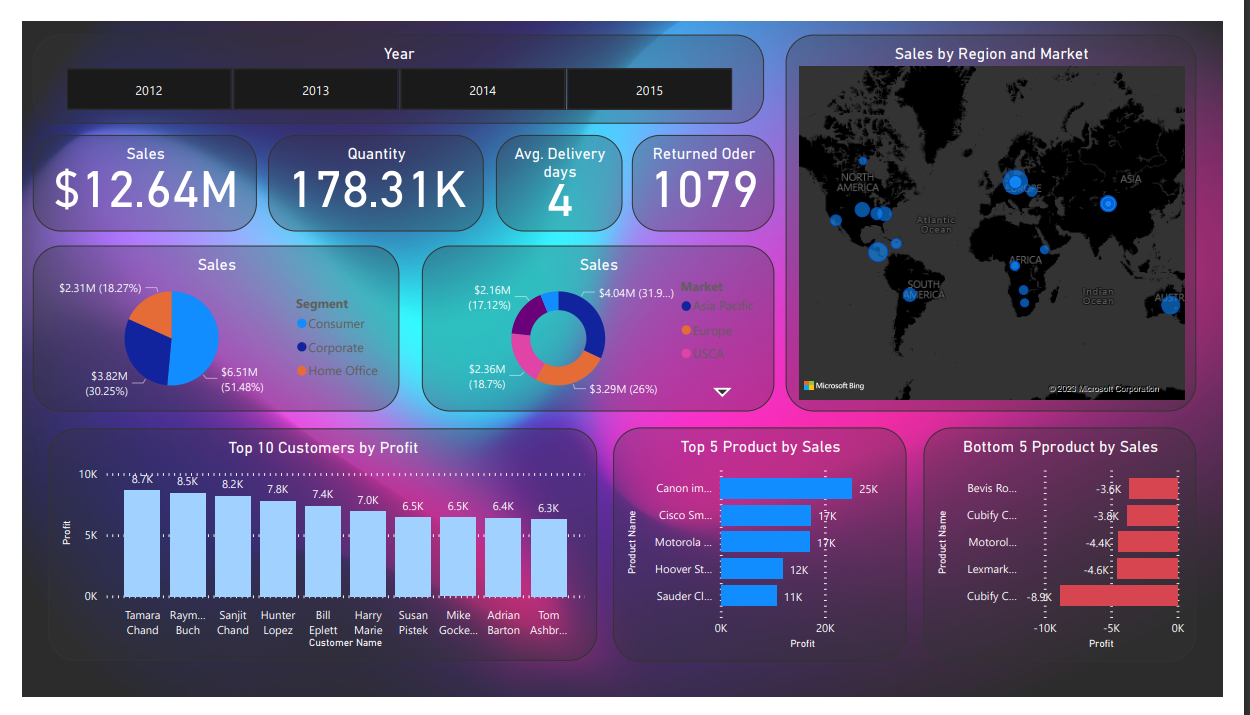

What the dashboard file says about the page in this screenshot:
{"tool":"powerbi","page":{"name":"Page 1","canvas":[1280,720],"ordinal":0},"visuals":[{"type":"card","title":"Sales","fields":{"Values":["Orders.Sales"]},"box":[10.9,120.6,238.8,103.7],"z":0},{"type":"card","title":"Quantity","fields":{"Values":["Orders.Quantity"]},"box":[261.7,120.6,230.4,103.7],"z":1000},{"type":"card","title":"Avg. Delivery days","fields":{"Values":["Orders.Delivery days"]},"box":[505.3,120.6,135.1,103.7],"z":2000},{"type":"slicer","title":"Year","fields":{"Values":["Orders.Year"]},"box":[10.9,14.5,780.3,94.1],"z":3000},{"type":"card","title":"Returned Oder","fields":{"Values":["Returns.Returned orders"]},"box":[650.1,120.6,152,103.7],"z":4000},{"type":"map","title":"Sales by Region and Market","fields":{"Size":["Orders.Sales"],"Category":["Orders.Region"]},"box":[814.1,14.5,437.8,401.6],"z":5000},{"type":"clusteredBarChart","title":"Top 5 Product by Sales","fields":{"Y":["Orders.Profit"],"Category":["Orders.Product Name"]},"box":[629.5,433,313.6,249.6],"z":6000},{"type":"clusteredBarChart","title":"Bottom 5 Pproduct by Sales ","fields":{"Y":["Orders.Profit"],"Category":["Orders.Product Name"]},"box":[961.2,433,290.7,249.6],"z":7000},{"type":"pieChart","title":"Sales","fields":{"Category":["Orders.Segment"],"Y":["Orders.Sales"]},"box":[10.9,238.8,390.8,177.3],"z":8000},{"type":"donutChart","title":"Sales","fields":{"Y":["Orders.Sales"],"Category":["Orders.Market"]},"box":[425.7,238.8,376.3,177.3],"z":9000},{"type":"clusteredColumnChart","title":"Top 10 Customers by Profit","fields":{"Y":["Orders.Profit"],"Category":["Orders.Customer Name"]},"box":[27.4,433.6,585.9,248.4],"z":10000}]}

Visuals, with their boxes in screenshot pixels (x1, y1, x2, y2), scaled from the page's 1280x720 canvas onto the 1250x715 screenshot:
"Sales" card: (11, 120, 244, 223)
"Quantity" card: (256, 120, 481, 223)
"Avg. Delivery days" card: (493, 120, 625, 223)
"Year" slicer: (11, 14, 773, 108)
"Returned Oder" card: (635, 120, 783, 223)
"Sales by Region and Market" map: (795, 14, 1223, 413)
"Top 5 Product by Sales" clusteredBarChart: (615, 430, 921, 678)
"Bottom 5 Pproduct by Sales " clusteredBarChart: (939, 430, 1223, 678)
"Sales" pieChart: (11, 237, 392, 413)
"Sales" donutChart: (416, 237, 783, 413)
"Top 10 Customers by Profit" clusteredColumnChart: (27, 431, 599, 677)
